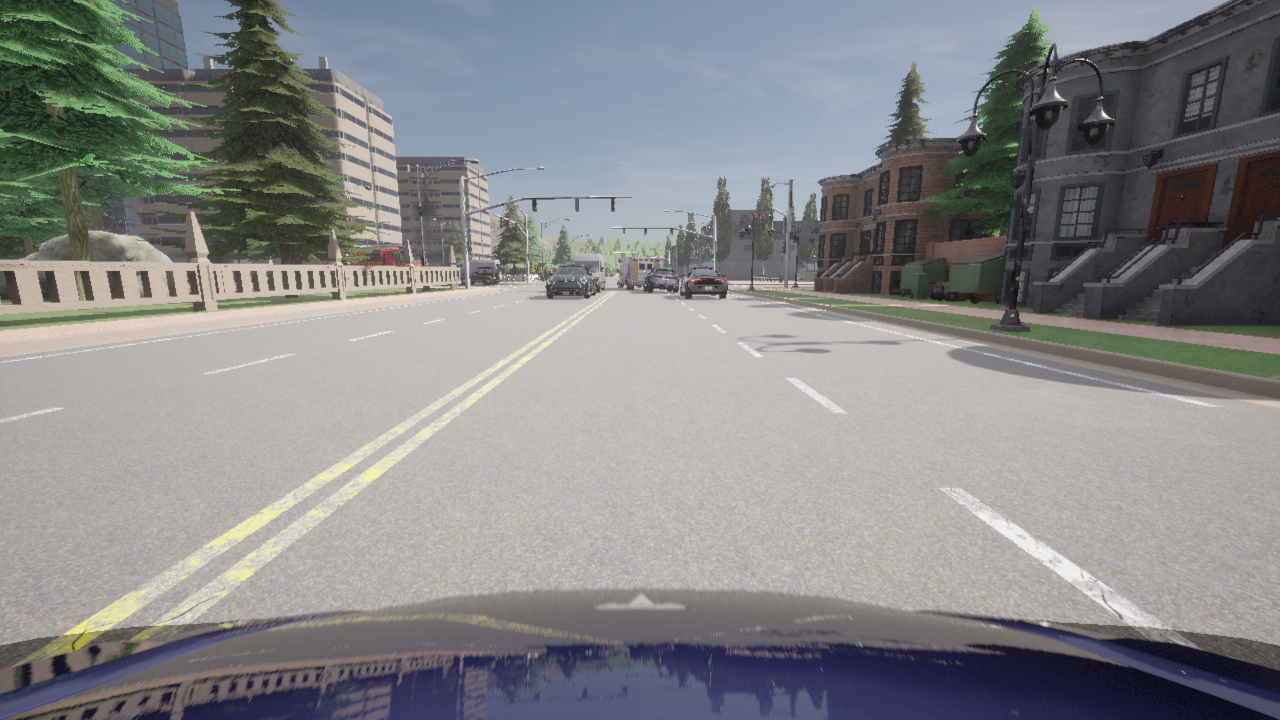cyclist: (0, 588, 1279, 719), (315, 243, 421, 266), (546, 263, 595, 297), (616, 256, 660, 289), (681, 267, 727, 298), (572, 254, 605, 292), (456, 259, 501, 284), (643, 267, 678, 292), (460, 266, 500, 284), (442, 281, 461, 286), (474, 281, 499, 283)
